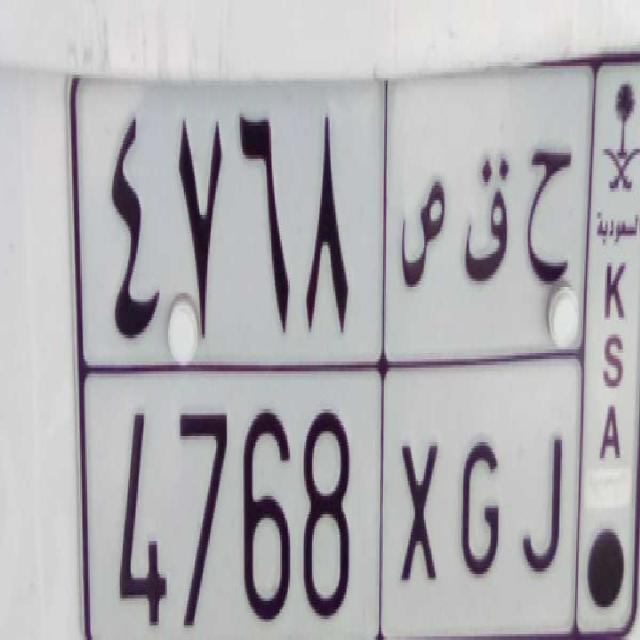license_plate: (80, 356, 584, 640)
